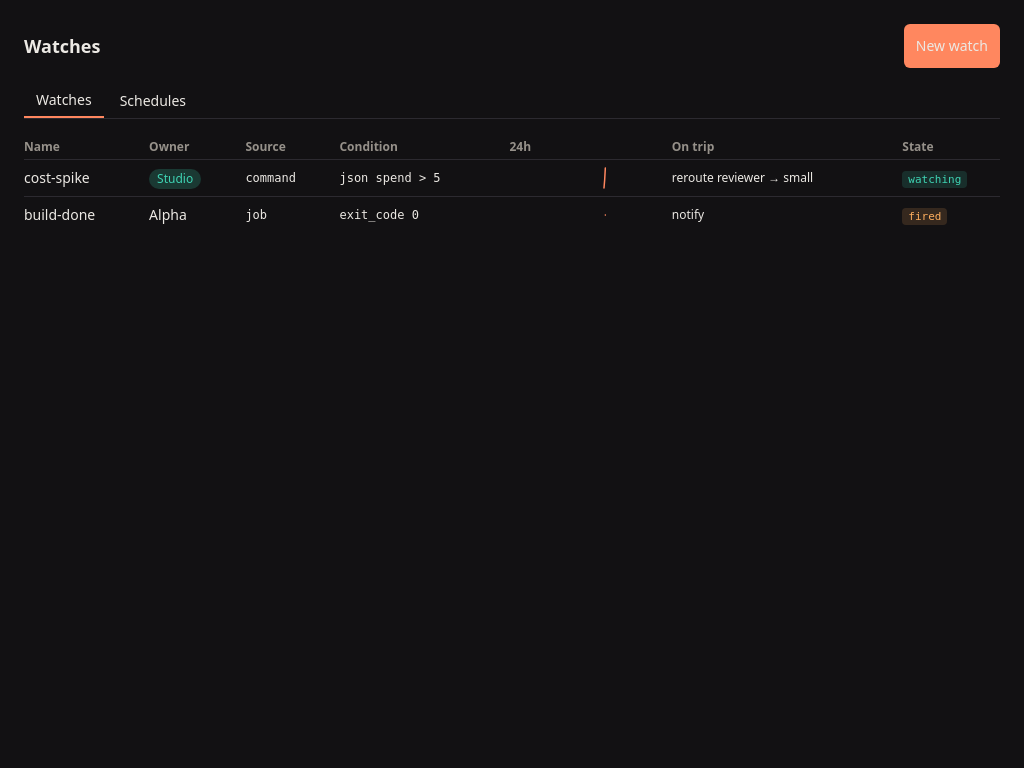
Test: Watch detail › stops a watch on its owner
Click the row with test id "watch-row" that starts with "cost-spike". click: coordinates (512, 178)
box: [24,160,1000,196]
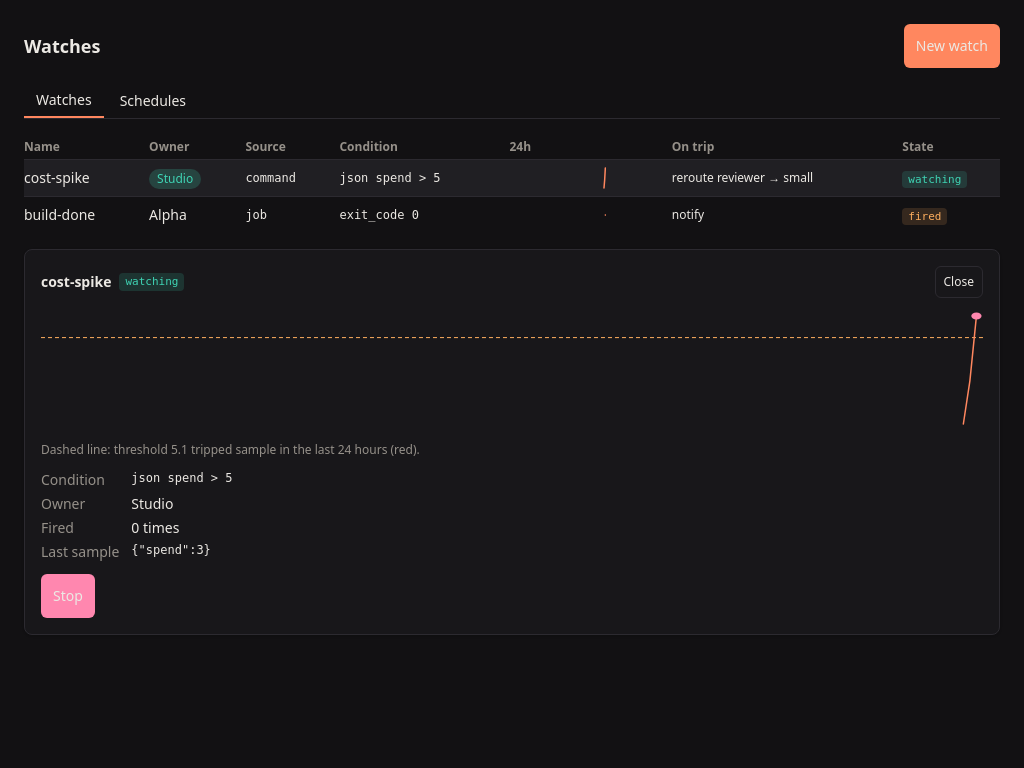
Click the button "Stop". click: coordinates (68, 596)
box: [41,574,95,618]
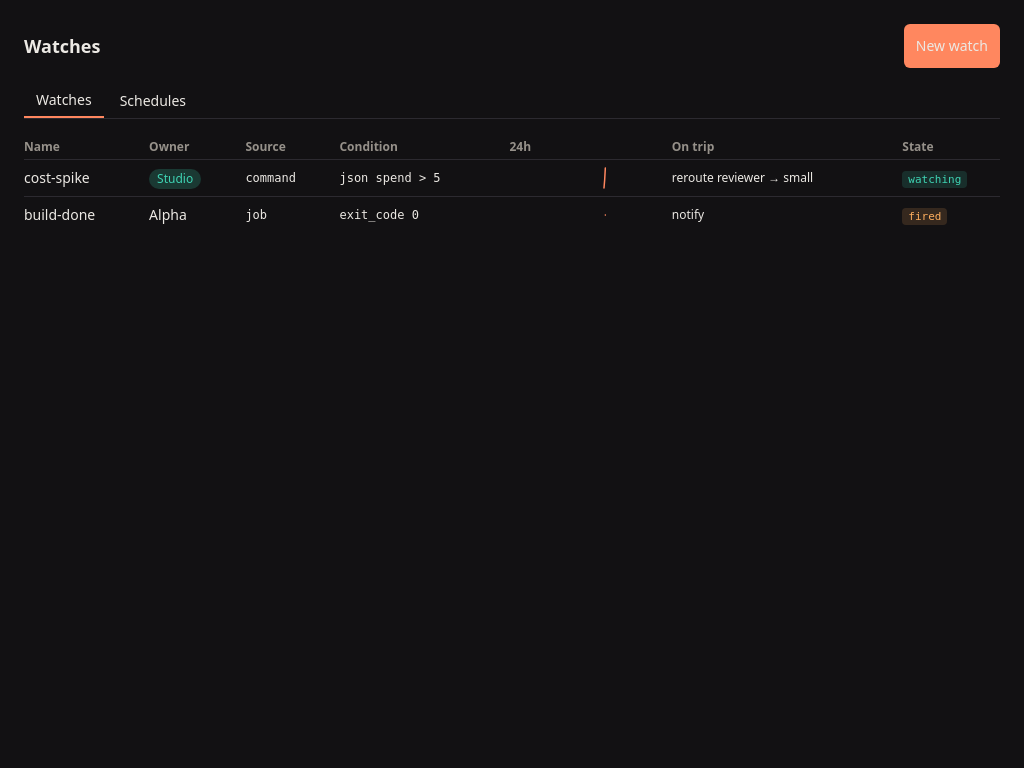
Result: the element with test id "watch-detail" is gone
